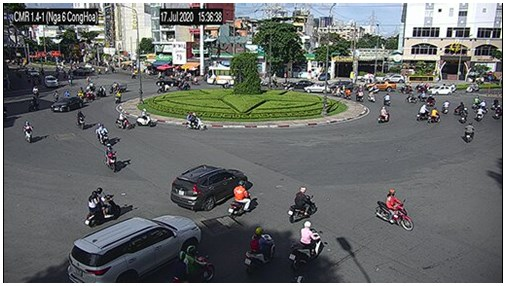xe_buyt: (206, 66, 253, 84)
xe_hoi: (69, 214, 202, 282), (171, 165, 248, 213), (305, 82, 330, 93), (428, 84, 453, 95), (43, 75, 58, 89), (382, 73, 403, 82), (289, 80, 312, 87)
xe_may: (290, 220, 323, 273), (375, 188, 413, 232), (245, 225, 276, 277), (174, 245, 214, 283), (85, 188, 122, 225), (288, 187, 318, 222), (229, 181, 253, 218), (185, 111, 208, 131), (105, 143, 118, 174), (136, 107, 153, 127), (96, 122, 109, 144), (117, 112, 132, 130), (24, 121, 35, 144), (377, 106, 389, 125), (464, 119, 473, 142), (77, 109, 86, 131), (416, 104, 428, 119), (428, 107, 440, 122), (29, 96, 39, 112), (459, 107, 469, 123), (492, 104, 502, 120), (156, 82, 170, 93), (114, 88, 122, 105), (177, 80, 190, 90), (404, 92, 417, 102), (465, 82, 478, 92), (356, 87, 364, 103), (96, 85, 106, 97), (382, 92, 390, 107), (367, 90, 376, 103), (87, 87, 94, 103), (439, 100, 449, 111), (489, 96, 498, 108), (32, 86, 41, 97), (453, 101, 464, 110), (76, 86, 83, 100), (480, 100, 488, 112), (419, 90, 427, 102), (476, 106, 483, 119), (472, 95, 479, 108), (331, 87, 341, 96), (343, 87, 351, 98), (51, 89, 58, 101), (63, 89, 69, 96)
